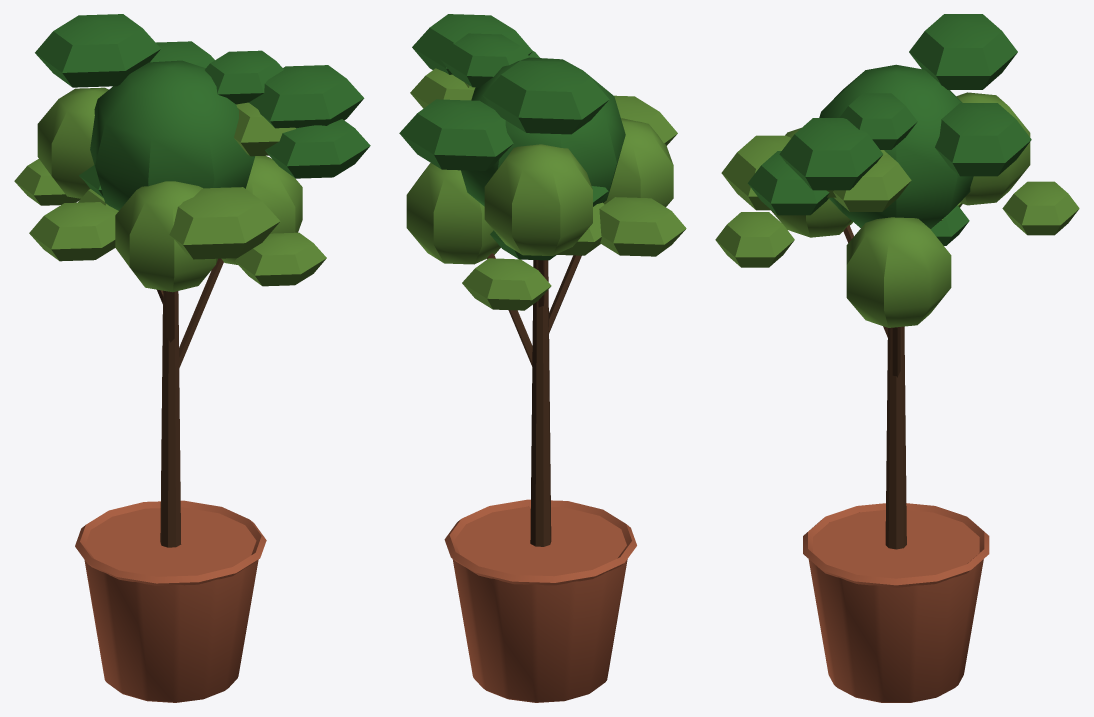
File: plant_ficus_tree.glb
The picture shows the model from 3 angles, left to right: view 1: azimuth 30°, elevation 25°; view 2: azimuth 150°, elevation 25°; view 3: azimuth 270°, elevation 25°; orthographic projection.
Visible parts, largest first — view 1: plant_ficus_tree; view 2: plant_ficus_tree; view 3: plant_ficus_tree.
Part boxes in pixels (left/top/right/bottom): plant_ficus_tree: left=14, top=14, right=370, bottom=702; plant_ficus_tree: left=399, top=14, right=686, bottom=702; plant_ficus_tree: left=715, top=14, right=1079, bottom=702.
Size of the model in its own units: 0.8882 by 1.94 by 1.01.
